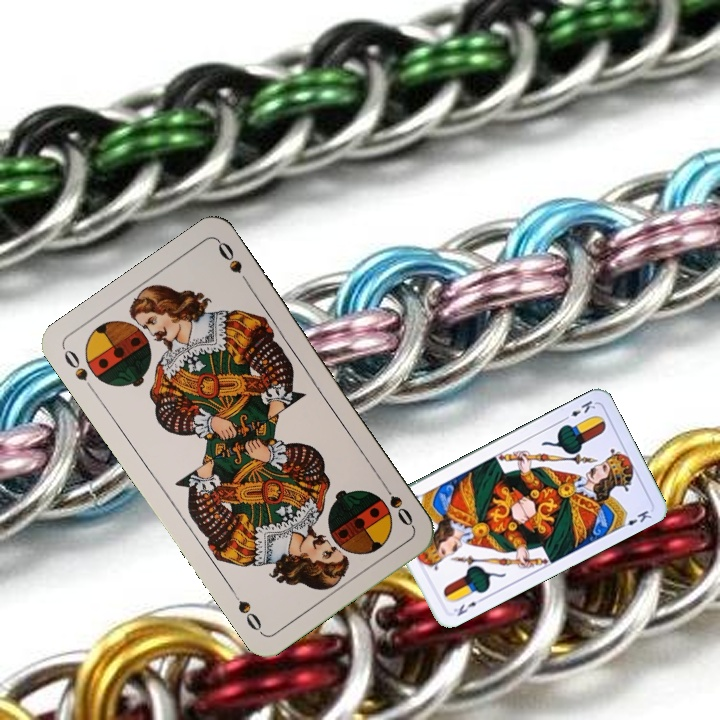EK: (559, 396, 598, 423), (450, 594, 486, 619)
SO: (377, 477, 417, 529), (59, 345, 99, 396)
